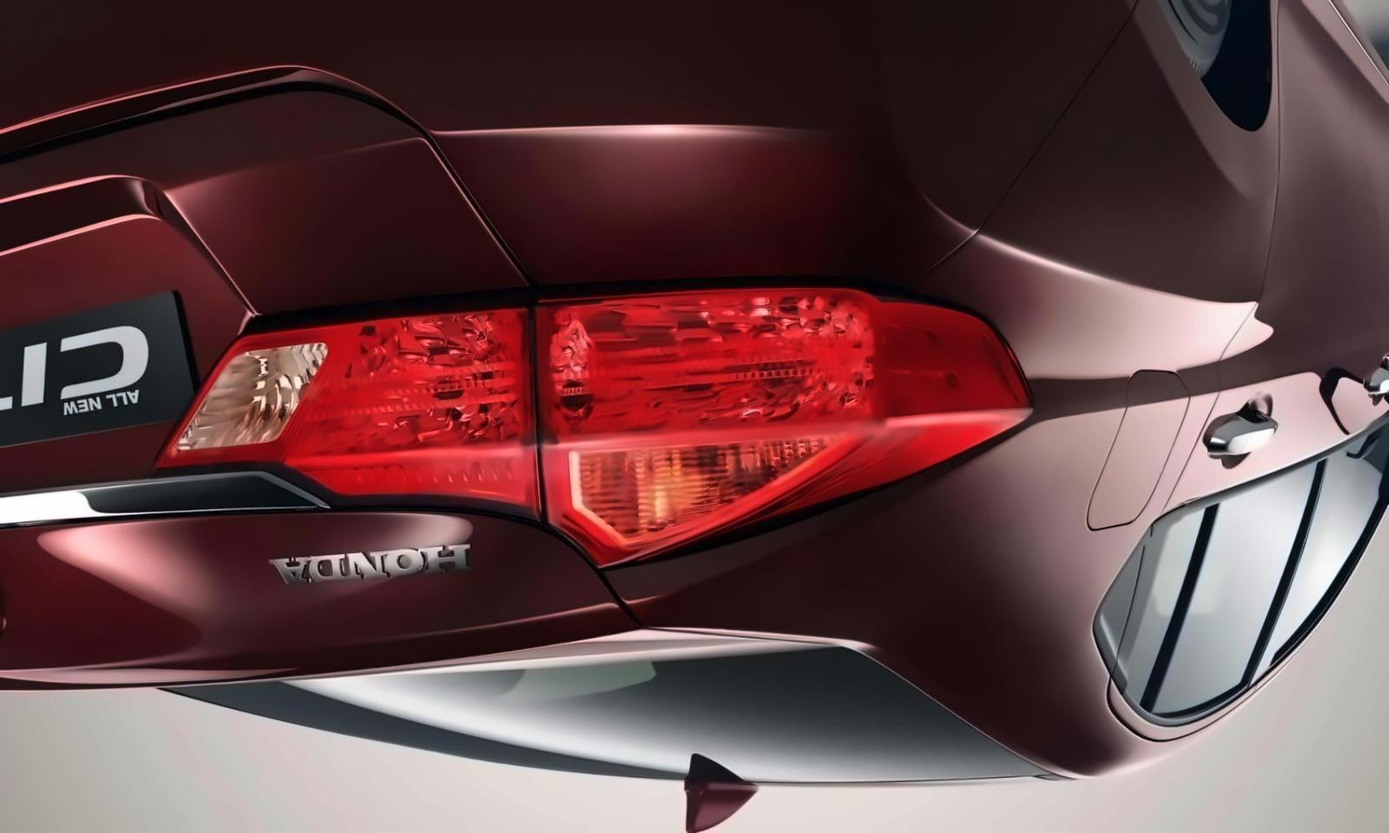Car boot: (0, 53, 827, 699)
Fender - -R-L-: (903, 0, 1299, 627)
Passenger-s door - -F-L-: (1257, 0, 1389, 680)
Passenger-s door - -R-L-: (1104, 0, 1335, 741)
Rear bumper: (0, 0, 1153, 333)
Rear light - -L-: (146, 274, 1038, 578)
